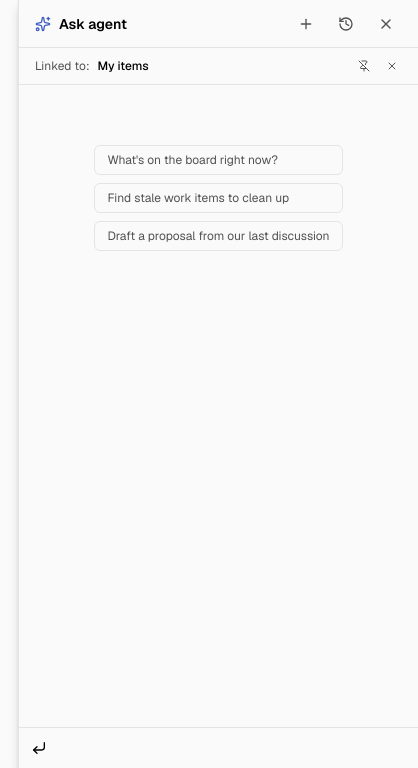
Scenario: AgentChatPanel › shows an empty Sessions state when there are no past sessions
Click the button named "Sessions". click: (346, 24)
box: [330,8,362,40]
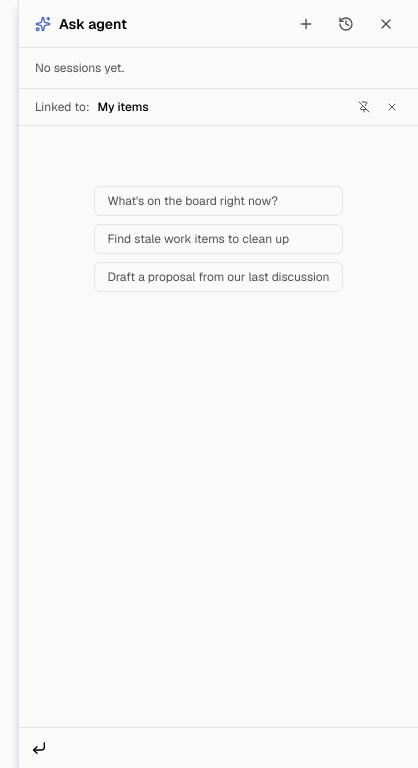
Result: the text "No sessions yet." is shown at [35,60,124,76]
